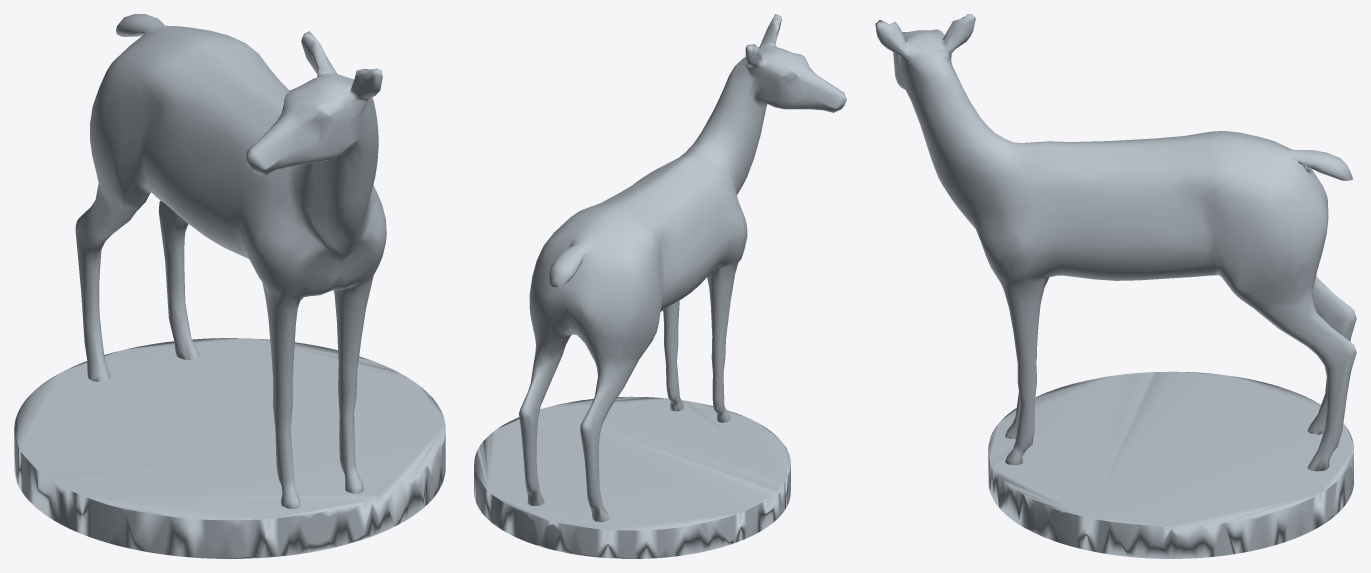
Rendered from deer.glb.
3 renders of one model, left to right at view 1: azimuth 30°, elevation 25°; view 2: azimuth 150°, elevation 25°; view 3: azimuth 270°, elevation 25°, orthographic. The views are drawn at different scales.
Visible parts, largest first — view 1: Deer.001; view 2: Deer.001; view 3: Deer.001.
Boxes of the visible parts, <box> form: Deer.001: <box>14,14,445,558</box>; Deer.001: <box>474,14,846,558</box>; Deer.001: <box>875,14,1356,558</box>.
Size of the model in its own units: 25.25 by 34.35 by 33.24.
1 material, 1 textured.
